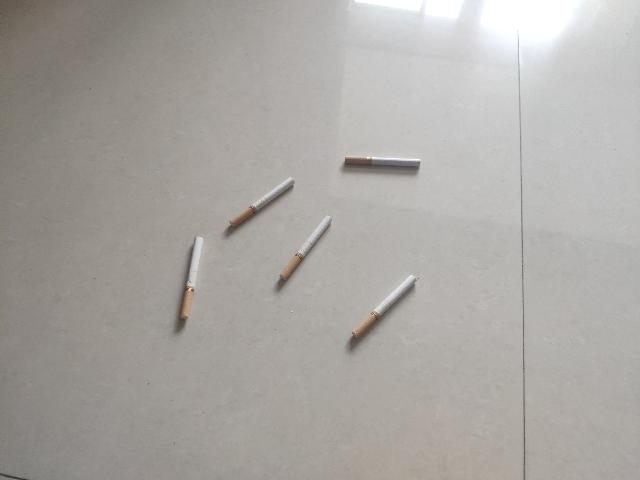Cigarette: (353, 275, 417, 338), (280, 216, 332, 281), (230, 176, 294, 228), (179, 236, 203, 320), (345, 156, 421, 168)
